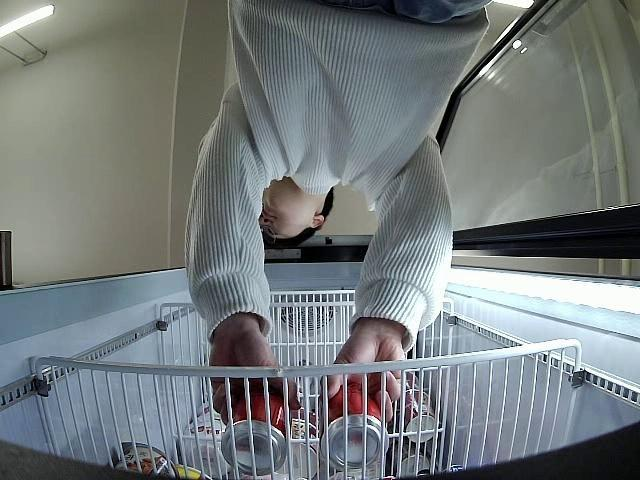11_cocaColaZero: (316, 379, 390, 470), (220, 390, 294, 474)
